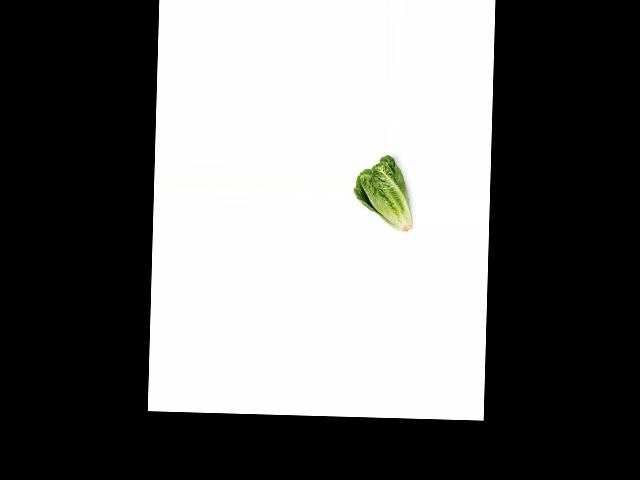lettuce: (352, 154, 415, 233)
